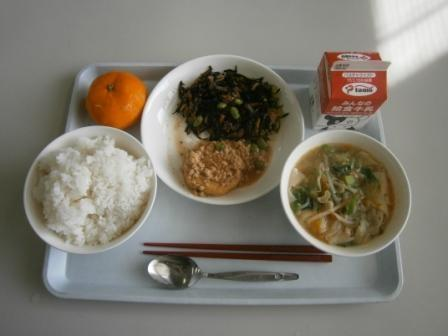Citrus: (85, 71, 150, 132)
Milk: (305, 47, 390, 133)
Rice: (23, 127, 159, 246)
cereal based cooked food: (175, 136, 270, 190)
salad with sauce: (171, 68, 291, 142)
vegetable soup: (280, 133, 410, 257)
